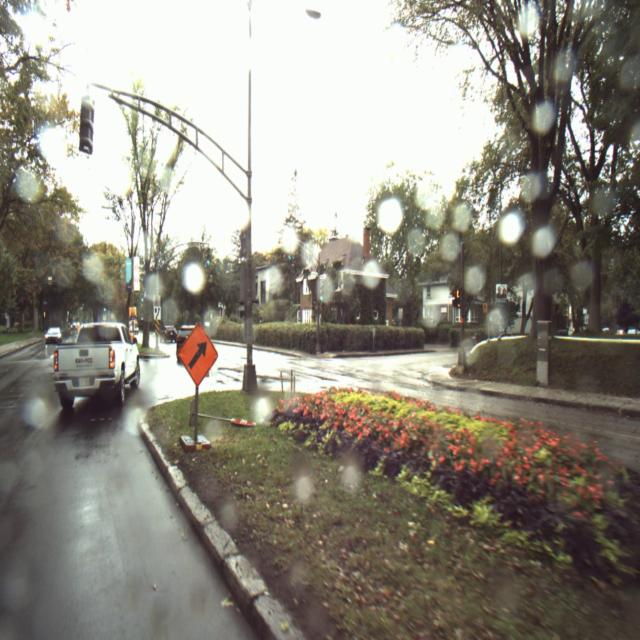car: (53, 323, 140, 407), (176, 323, 193, 345), (160, 325, 177, 344)
trafficLight: (78, 96, 94, 156), (451, 285, 463, 311)
trafficLight-Green: (203, 247, 213, 268)
